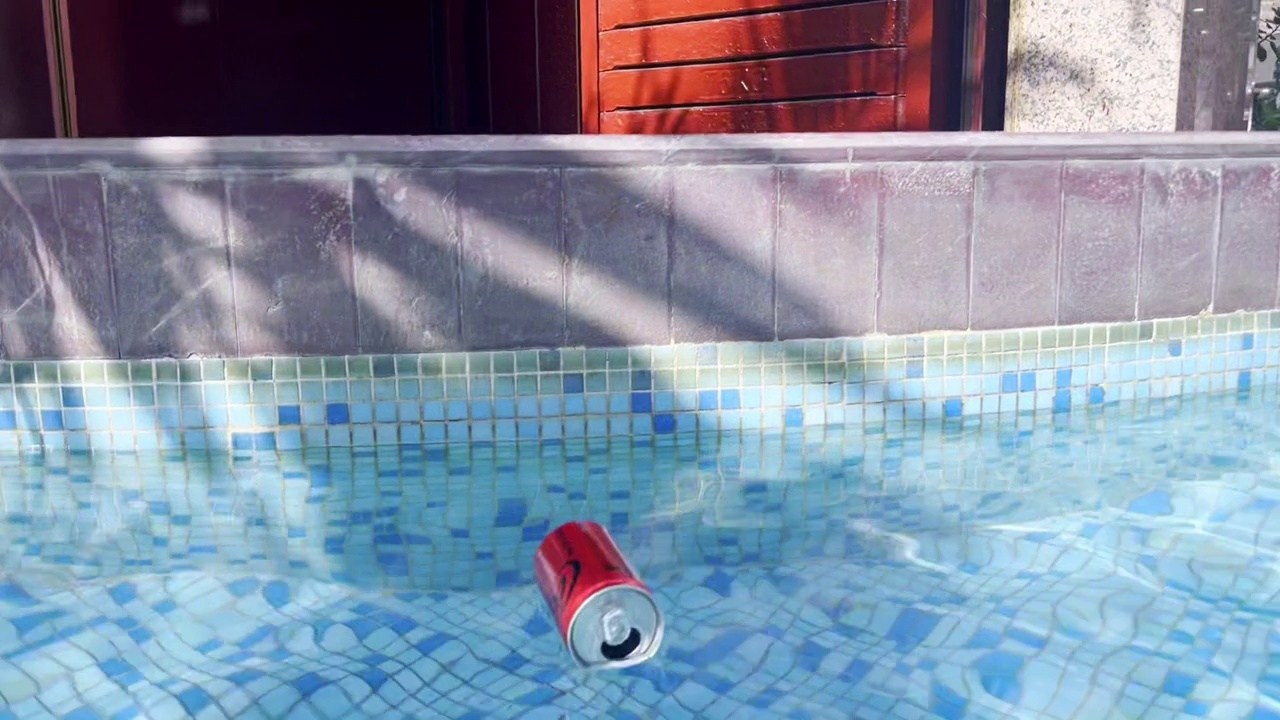debris: (517, 512, 672, 678)
